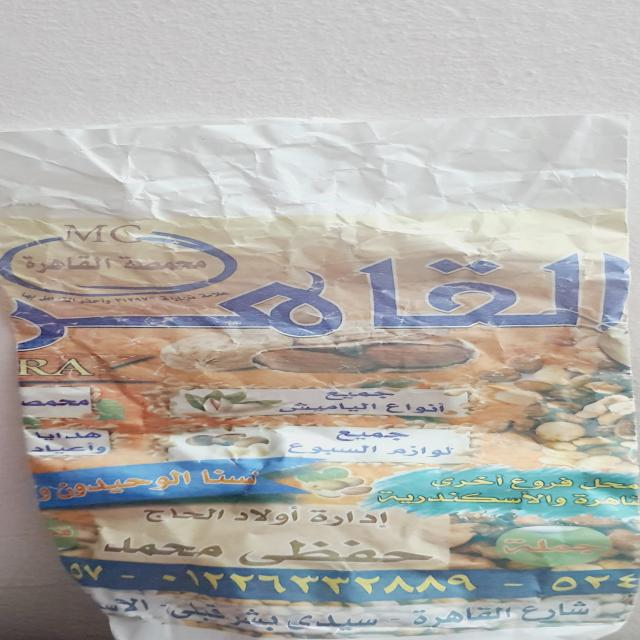paper: (0, 111, 640, 640)
